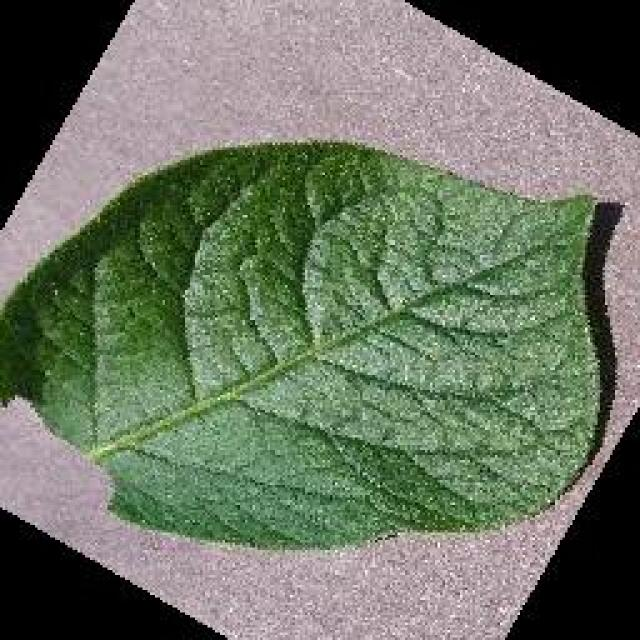Potato___healthy: (0, 143, 604, 552)
